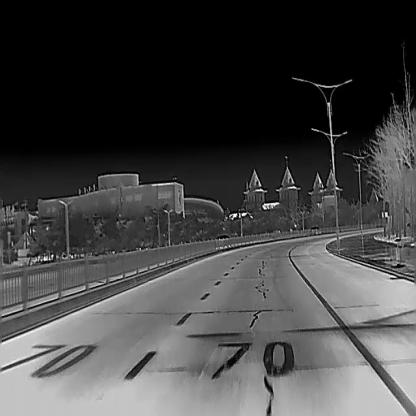car: (214, 234, 230, 247), (272, 228, 282, 238), (309, 226, 320, 235)
